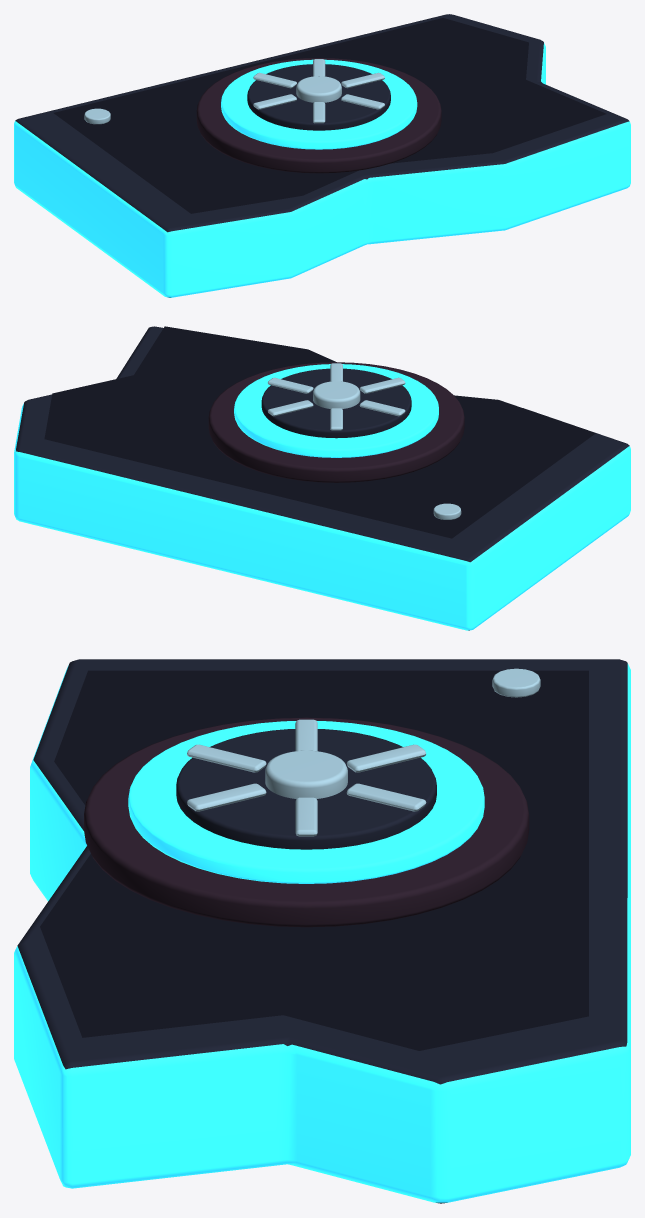
The model's file is tape_piece_1.glb.
The picture shows the model from 3 angles, top to bottom: view 1: azimuth 30°, elevation 25°; view 2: azimuth 150°, elevation 25°; view 3: azimuth 270°, elevation 25°; orthographic projection. The views are drawn at different scales.
Visible parts, largest first — view 1: 01_Blue_UpperLeft | broken shell, 01_Blue_UpperLeft | inset face, Left | tape spool, Left | bright reel ring, Left | black reel core, Left | chrome spindle; view 2: 01_Blue_UpperLeft | broken shell, 01_Blue_UpperLeft | inset face, Left | tape spool, Left | bright reel ring, Left | black reel core, Left | chrome spindle; view 3: 01_Blue_UpperLeft | broken shell, 01_Blue_UpperLeft | inset face, Left | tape spool, Left | bright reel ring, Left | black reel core, Left | chrome spindle, Corner screw, Left | chrome spoke 4, Left | chrome spoke 5, Left | chrome spoke 2, Left | chrome spoke 1, Left | chrome spoke 0.
Part boxes in pixels (x1=…): 01_Blue_UpperLeft | broken shell: x1=14, y1=14, x2=630, y2=297; 01_Blue_UpperLeft | inset face: x1=53, y1=18, x2=606, y2=213; Left | tape spool: x1=196, y1=58, x2=441, y2=173; Left | bright reel ring: x1=221, y1=59, x2=417, y2=149; Left | black reel core: x1=247, y1=64, x2=390, y2=130; Left | chrome spindle: x1=296, y1=76, x2=341, y2=102; 01_Blue_UpperLeft | broken shell: x1=14, y1=326, x2=630, y2=630; 01_Blue_UpperLeft | inset face: x1=44, y1=326, x2=595, y2=538; Left | tape spool: x1=208, y1=362, x2=464, y2=482; Left | bright reel ring: x1=234, y1=364, x2=438, y2=457; Left | black reel core: x1=261, y1=368, x2=411, y2=438; Left | chrome spindle: x1=313, y1=381, x2=360, y2=408; 01_Blue_UpperLeft | broken shell: x1=14, y1=659, x2=630, y2=1203; 01_Blue_UpperLeft | inset face: x1=40, y1=670, x2=588, y2=1050; Left | tape spool: x1=84, y1=717, x2=529, y2=927; Left | bright reel ring: x1=128, y1=721, x2=484, y2=883; Left | black reel core: x1=176, y1=729, x2=436, y2=849; Left | chrome spindle: x1=265, y1=750, x2=347, y2=798; Corner screw: x1=492, y1=668, x2=540, y2=697; Left | chrome spoke 4: x1=187, y1=744, x2=266, y2=772; Left | chrome spoke 5: x1=187, y1=783, x2=266, y2=811; Left | chrome spoke 2: x1=346, y1=744, x2=426, y2=772; Left | chrome spoke 1: x1=346, y1=783, x2=426, y2=811; Left | chrome spoke 0: x1=295, y1=797, x2=317, y2=836.
Bounding box in the file's own units: 1.59 × 0.363 × 0.97.
